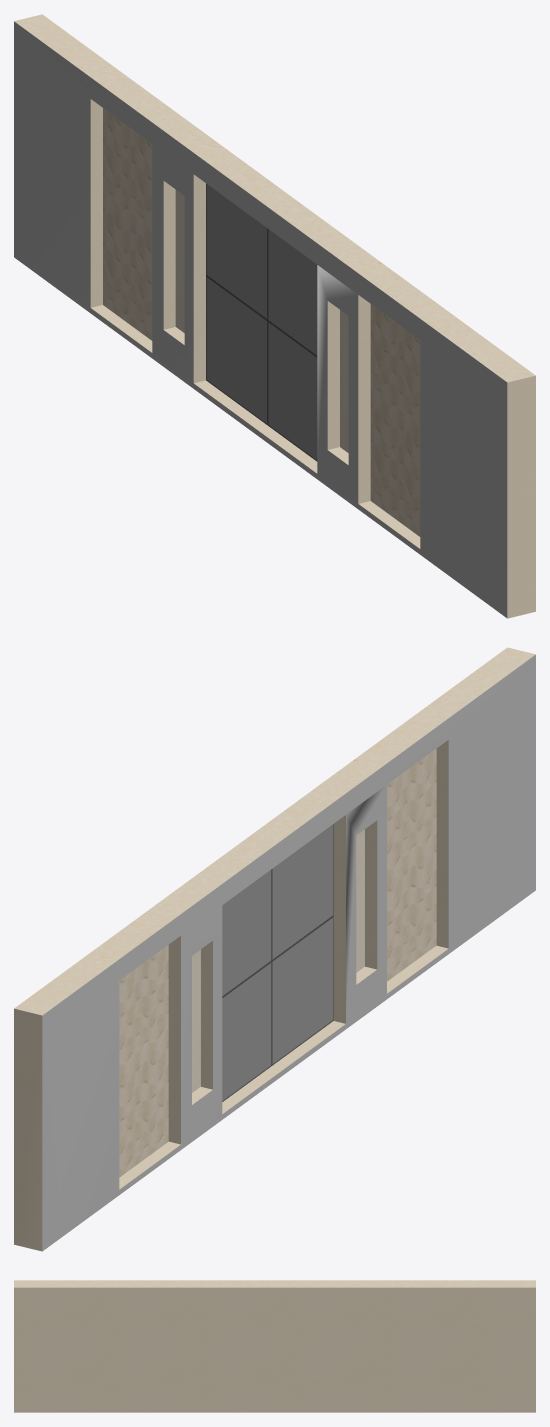
The model's file is InteriorWall1R.FBX.
The picture shows the model from 3 angles, top to bottom: view 1: azimuth 30°, elevation 25°; view 2: azimuth 150°, elevation 25°; view 3: azimuth 270°, elevation 25°; orthographic projection. The views are drawn at different scales.
Visible parts, largest first — view 1: InteriorWall1R; view 2: InteriorWall1R; view 3: InteriorWall1R.
Boxes of the visible parts, box(x1,y1,x2,y2) form: InteriorWall1R: box(14, 14, 535, 618); InteriorWall1R: box(14, 647, 535, 1251); InteriorWall1R: box(14, 1280, 535, 1412).
Size of the model in its own units: 18.9 by 149 by 566.
